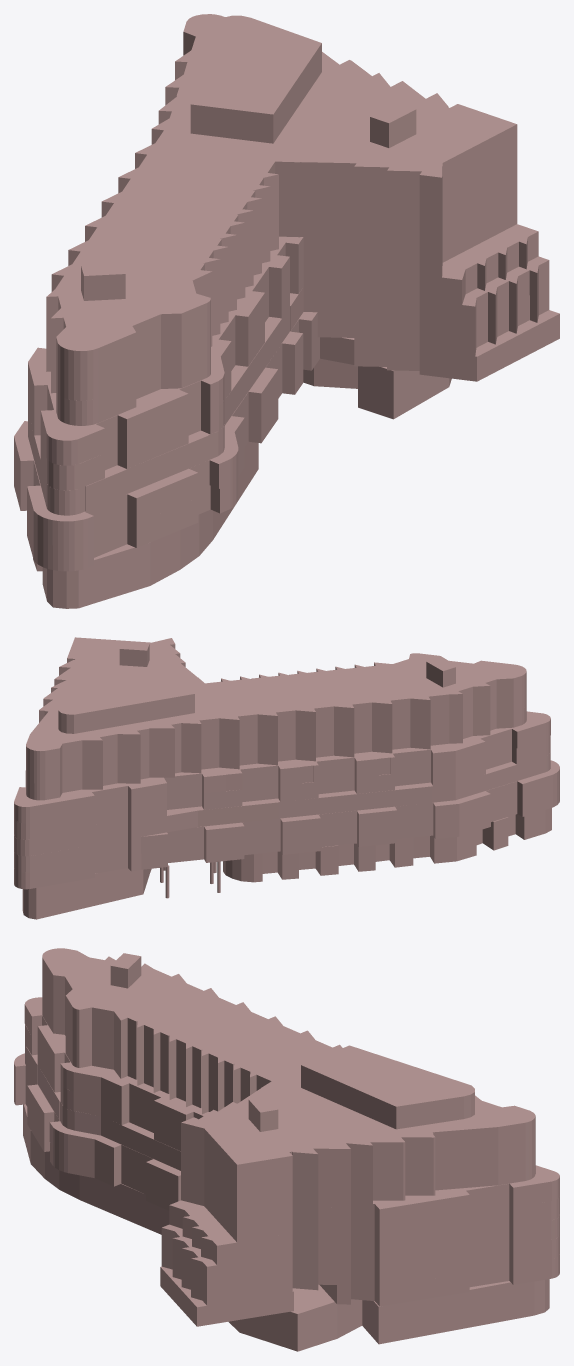
File: 900-lakeshore-current-plan.glb
3 renders of one model, top to bottom at view 1: azimuth 30°, elevation 25°; view 2: azimuth 150°, elevation 25°; view 3: azimuth 270°, elevation 25°, orthographic. The views are drawn at different scales.
Visible parts, largest first — view 1: wf-900-level-9, wf-900-level-6, wf-900-level-3, wf-900-level-4, wf-900-level-5, wf-900-level-2, wf-900-mechanical, wf-900-level-8, wf-900-level-7, wf-900-ground-west, wf-900-ground-east, wf-900-south-stair (+1 smaller); view 2: wf-900-level-9, wf-900-level-6, wf-900-level-3, wf-900-level-4, wf-900-level-2, wf-900-level-5, wf-900-level-8, wf-900-level-7, wf-900-ground-west, wf-900-mechanical, wf-900-ground-east, wf-900-south-stair (+1 smaller); view 3: wf-900-level-9, wf-900-level-6, wf-900-level-3, wf-900-level-5, wf-900-level-4, wf-900-ground-east, wf-900-level-8, wf-900-level-2, wf-900-level-7, wf-900-mechanical, wf-900-ground-west, wf-900-west-stair (+1 smaller).
Part boxes in pixels (<box>): wf-900-level-9: <box>46,14,517,375</box>; wf-900-level-6: <box>28,199,517,465</box>; wf-900-level-3: <box>14,285,549,546</box>; wf-900-level-4: <box>28,256,549,515</box>; wf-900-level-5: <box>28,224,538,490</box>; wf-900-level-2: <box>14,310,559,571</box>; wf-900-mechanical: <box>190,15,321,143</box>; wf-900-level-8: <box>46,149,517,400</box>; wf-900-level-7: <box>46,174,517,425</box>; wf-900-ground-west: <box>33,442,258,608</box>; wf-900-ground-east: <box>303,358,451,419</box>; wf-900-south-stair: <box>370,103,416,147</box>; wf-900-level-9: <box>26,637,526,767</box>; wf-900-level-6: <box>14,711,550,823</box>; wf-900-level-3: <box>14,760,559,872</box>; wf-900-level-4: <box>14,753,550,856</box>; wf-900-level-2: <box>14,785,559,889</box>; wf-900-level-5: <box>14,736,550,839</box>; wf-900-level-8: <box>26,688,526,783</box>; wf-900-level-7: <box>26,705,526,800</box>; wf-900-ground-west: <box>223,808,551,882</box>; wf-900-mechanical: <box>58,670,194,733</box>; wf-900-ground-east: <box>22,868,151,919</box>; wf-900-south-stair: <box>119,642,149,666</box>; wf-900-level-9: <box>42,948,535,1184</box>; wf-900-level-6: <box>24,997,559,1242</box>; wf-900-level-3: <box>14,1053,559,1305</box>; wf-900-level-5: <box>25,1024,559,1265</box>; wf-900-level-4: <box>25,1044,559,1286</box>; wf-900-ground-east: <box>228,1279,549,1351</box>; wf-900-level-8: <box>42,977,535,1203</box>; wf-900-level-2: <box>14,1083,559,1326</box>; wf-900-level-7: <box>42,996,535,1222</box>; wf-900-mechanical: <box>301,1045,474,1129</box>; wf-900-ground-west: <box>23,1104,169,1234</box>; wf-900-west-stair: <box>110,953,141,988</box>.
Size of the model in its own units: 78.38 by 33.3 by 76.37.
